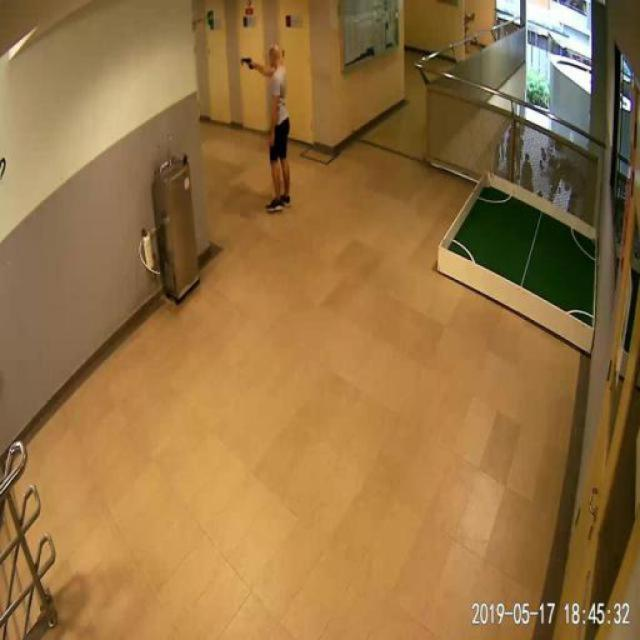pistol: (240, 55, 251, 69)
